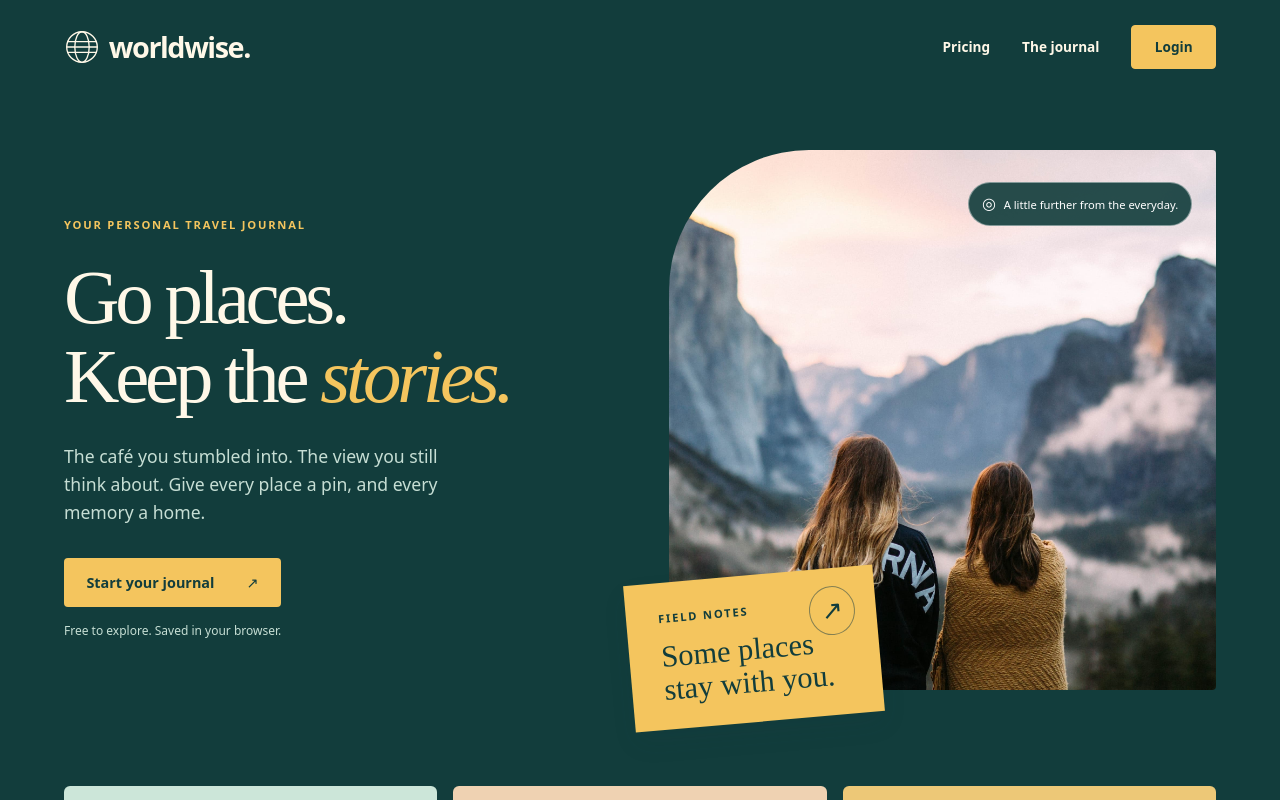
Test: Complete journal › openPublicPages_navigation_rendersProductAndPricing
Click the link "The journal" at x=1061, y=47, box [1022,37,1099,56]
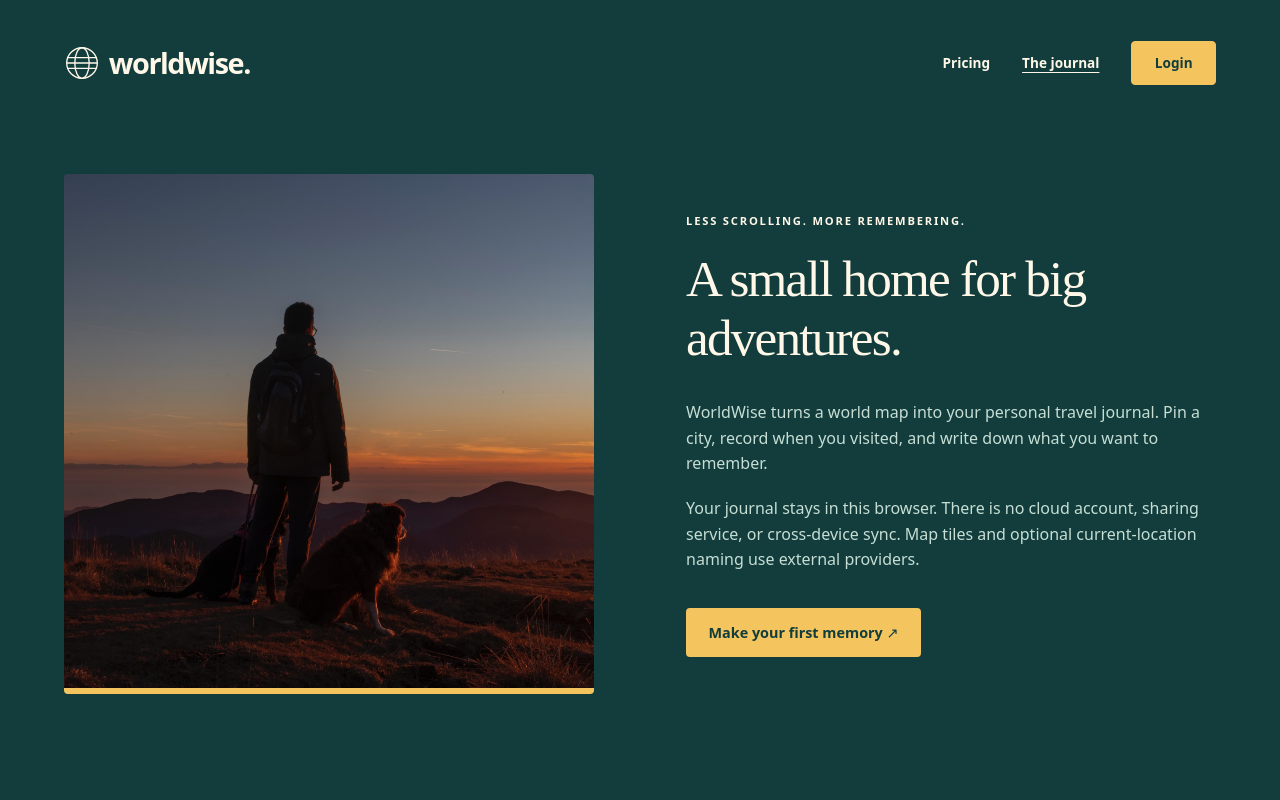
Expected: the heading "A small home for big adventures." is shown, [686,250,1085,366]
Click the link "Pricing" at x=966, y=63, box [943,53,990,72]
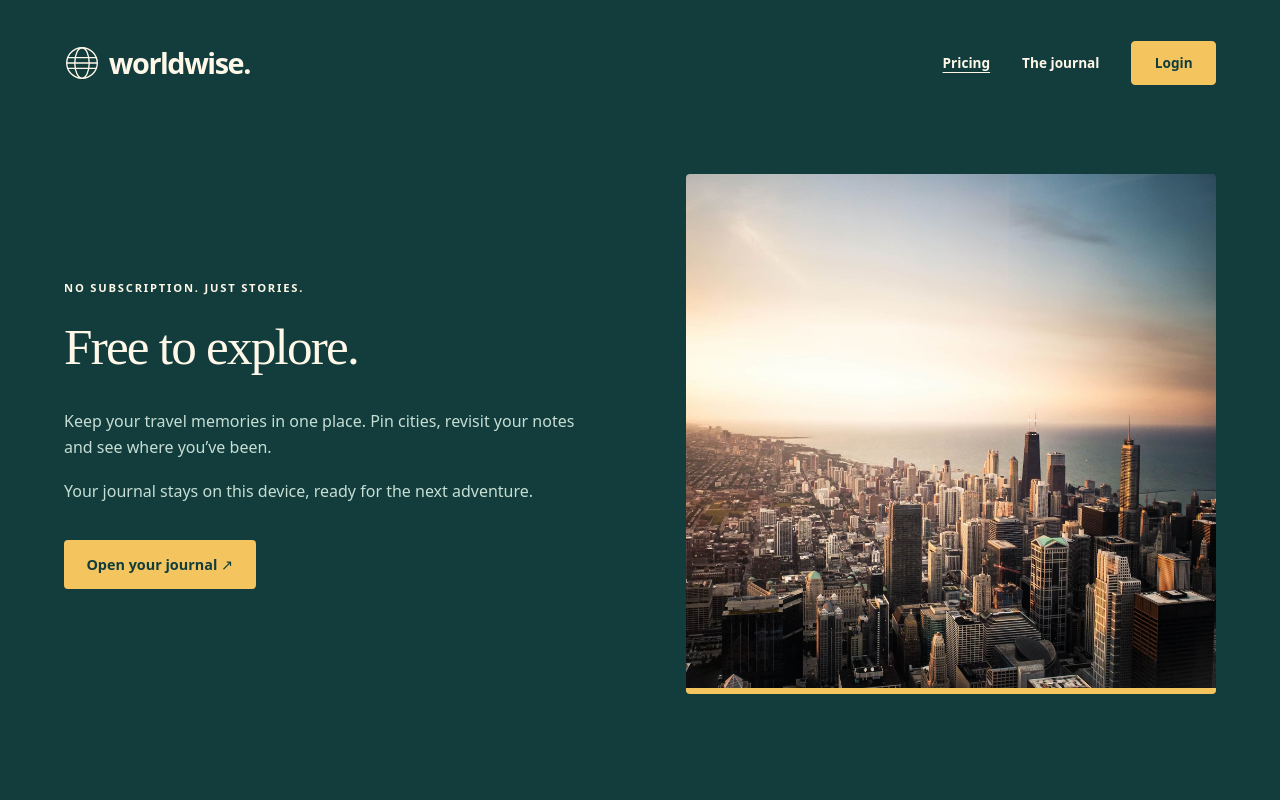
Expected: the heading "Free to explore." is shown, [64,318,358,375]
